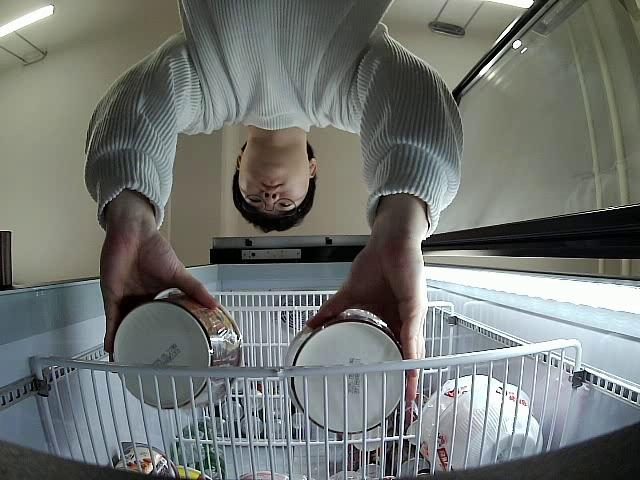00_hand: (304, 243, 430, 401), (100, 232, 221, 353)
05_nuguri_L: (112, 292, 243, 414), (284, 311, 406, 435)
